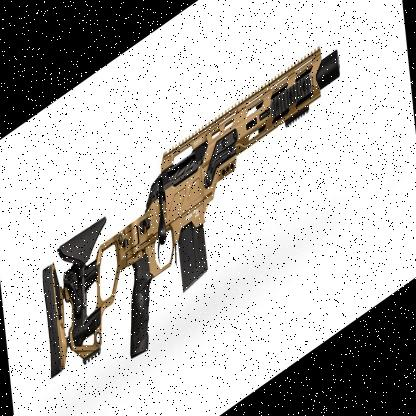rifle: (34, 16, 356, 416)
